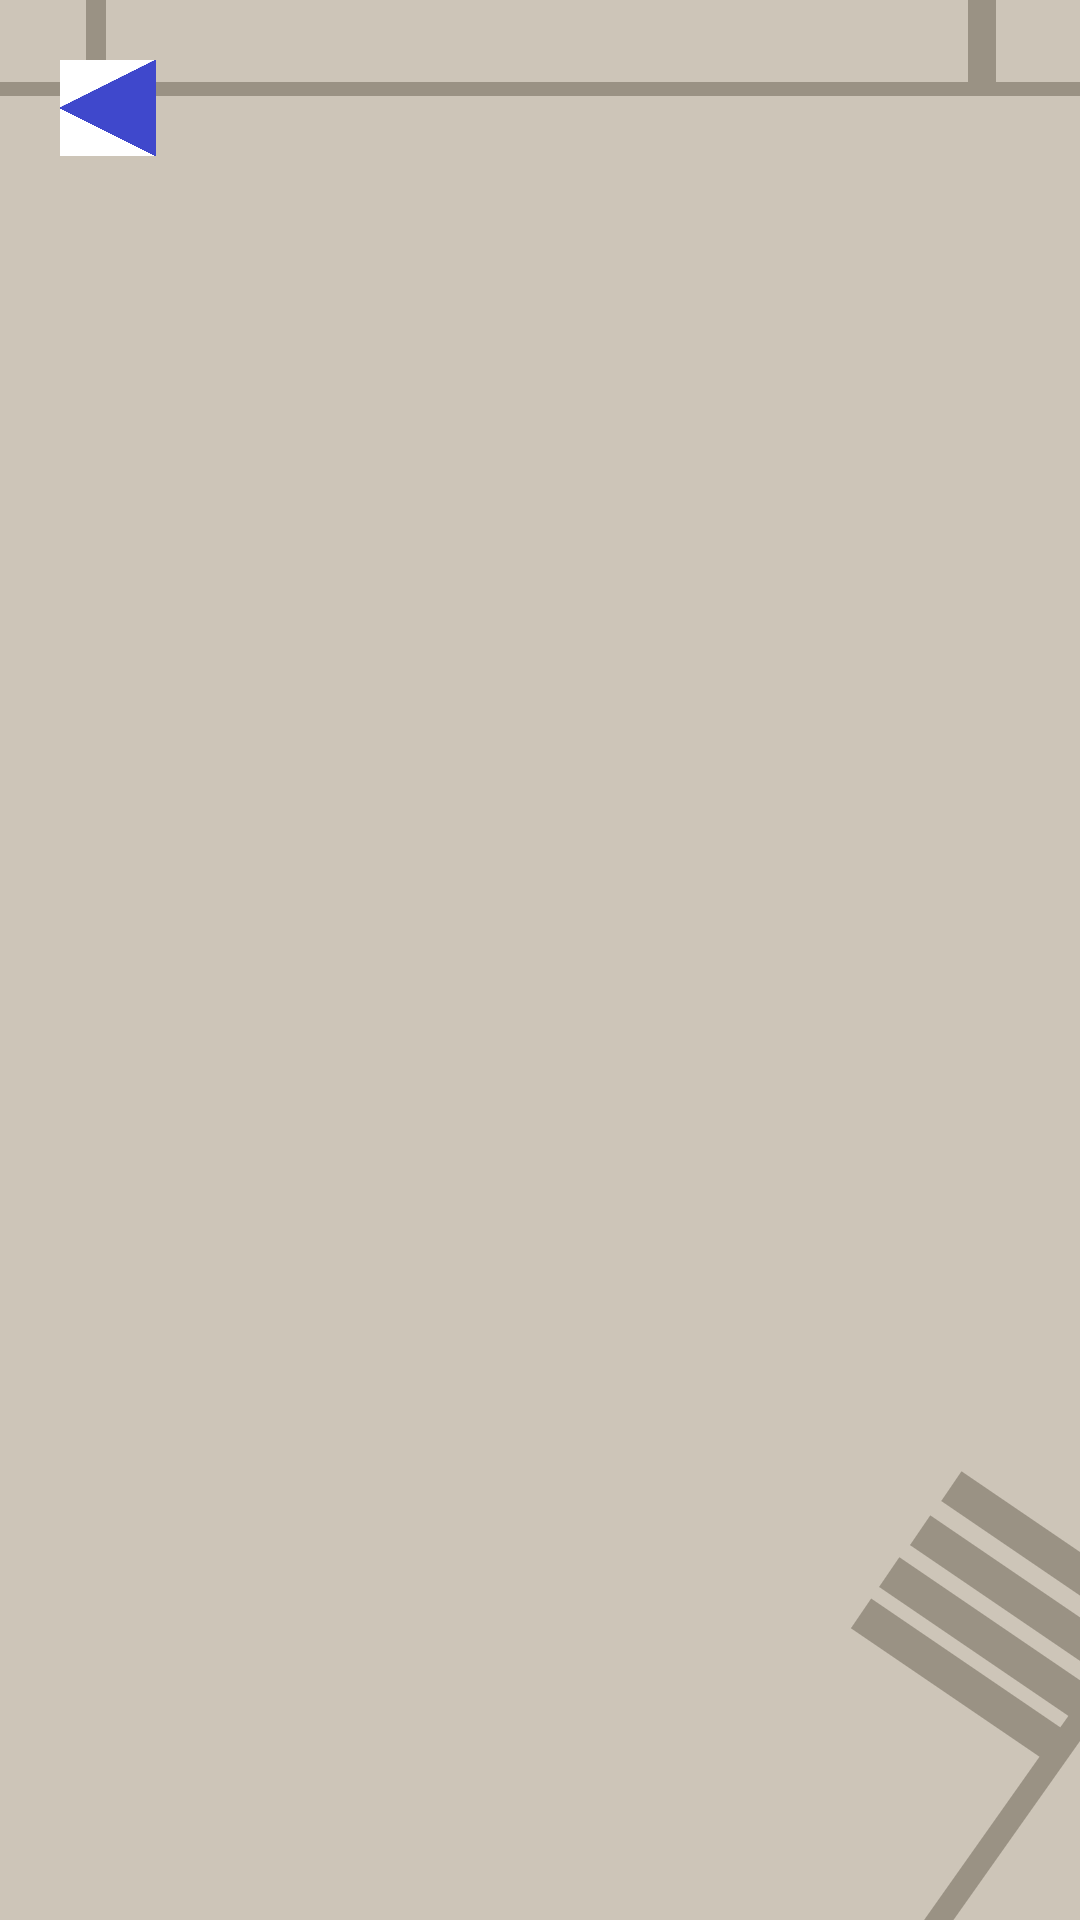

Icons on this 1080px x 1920px Android screen, each with its box as [x1=x1, y1=y1, x2=x2, y2=y2]:
general back arrow: [x1=60, y1=60, x2=156, y2=156]
